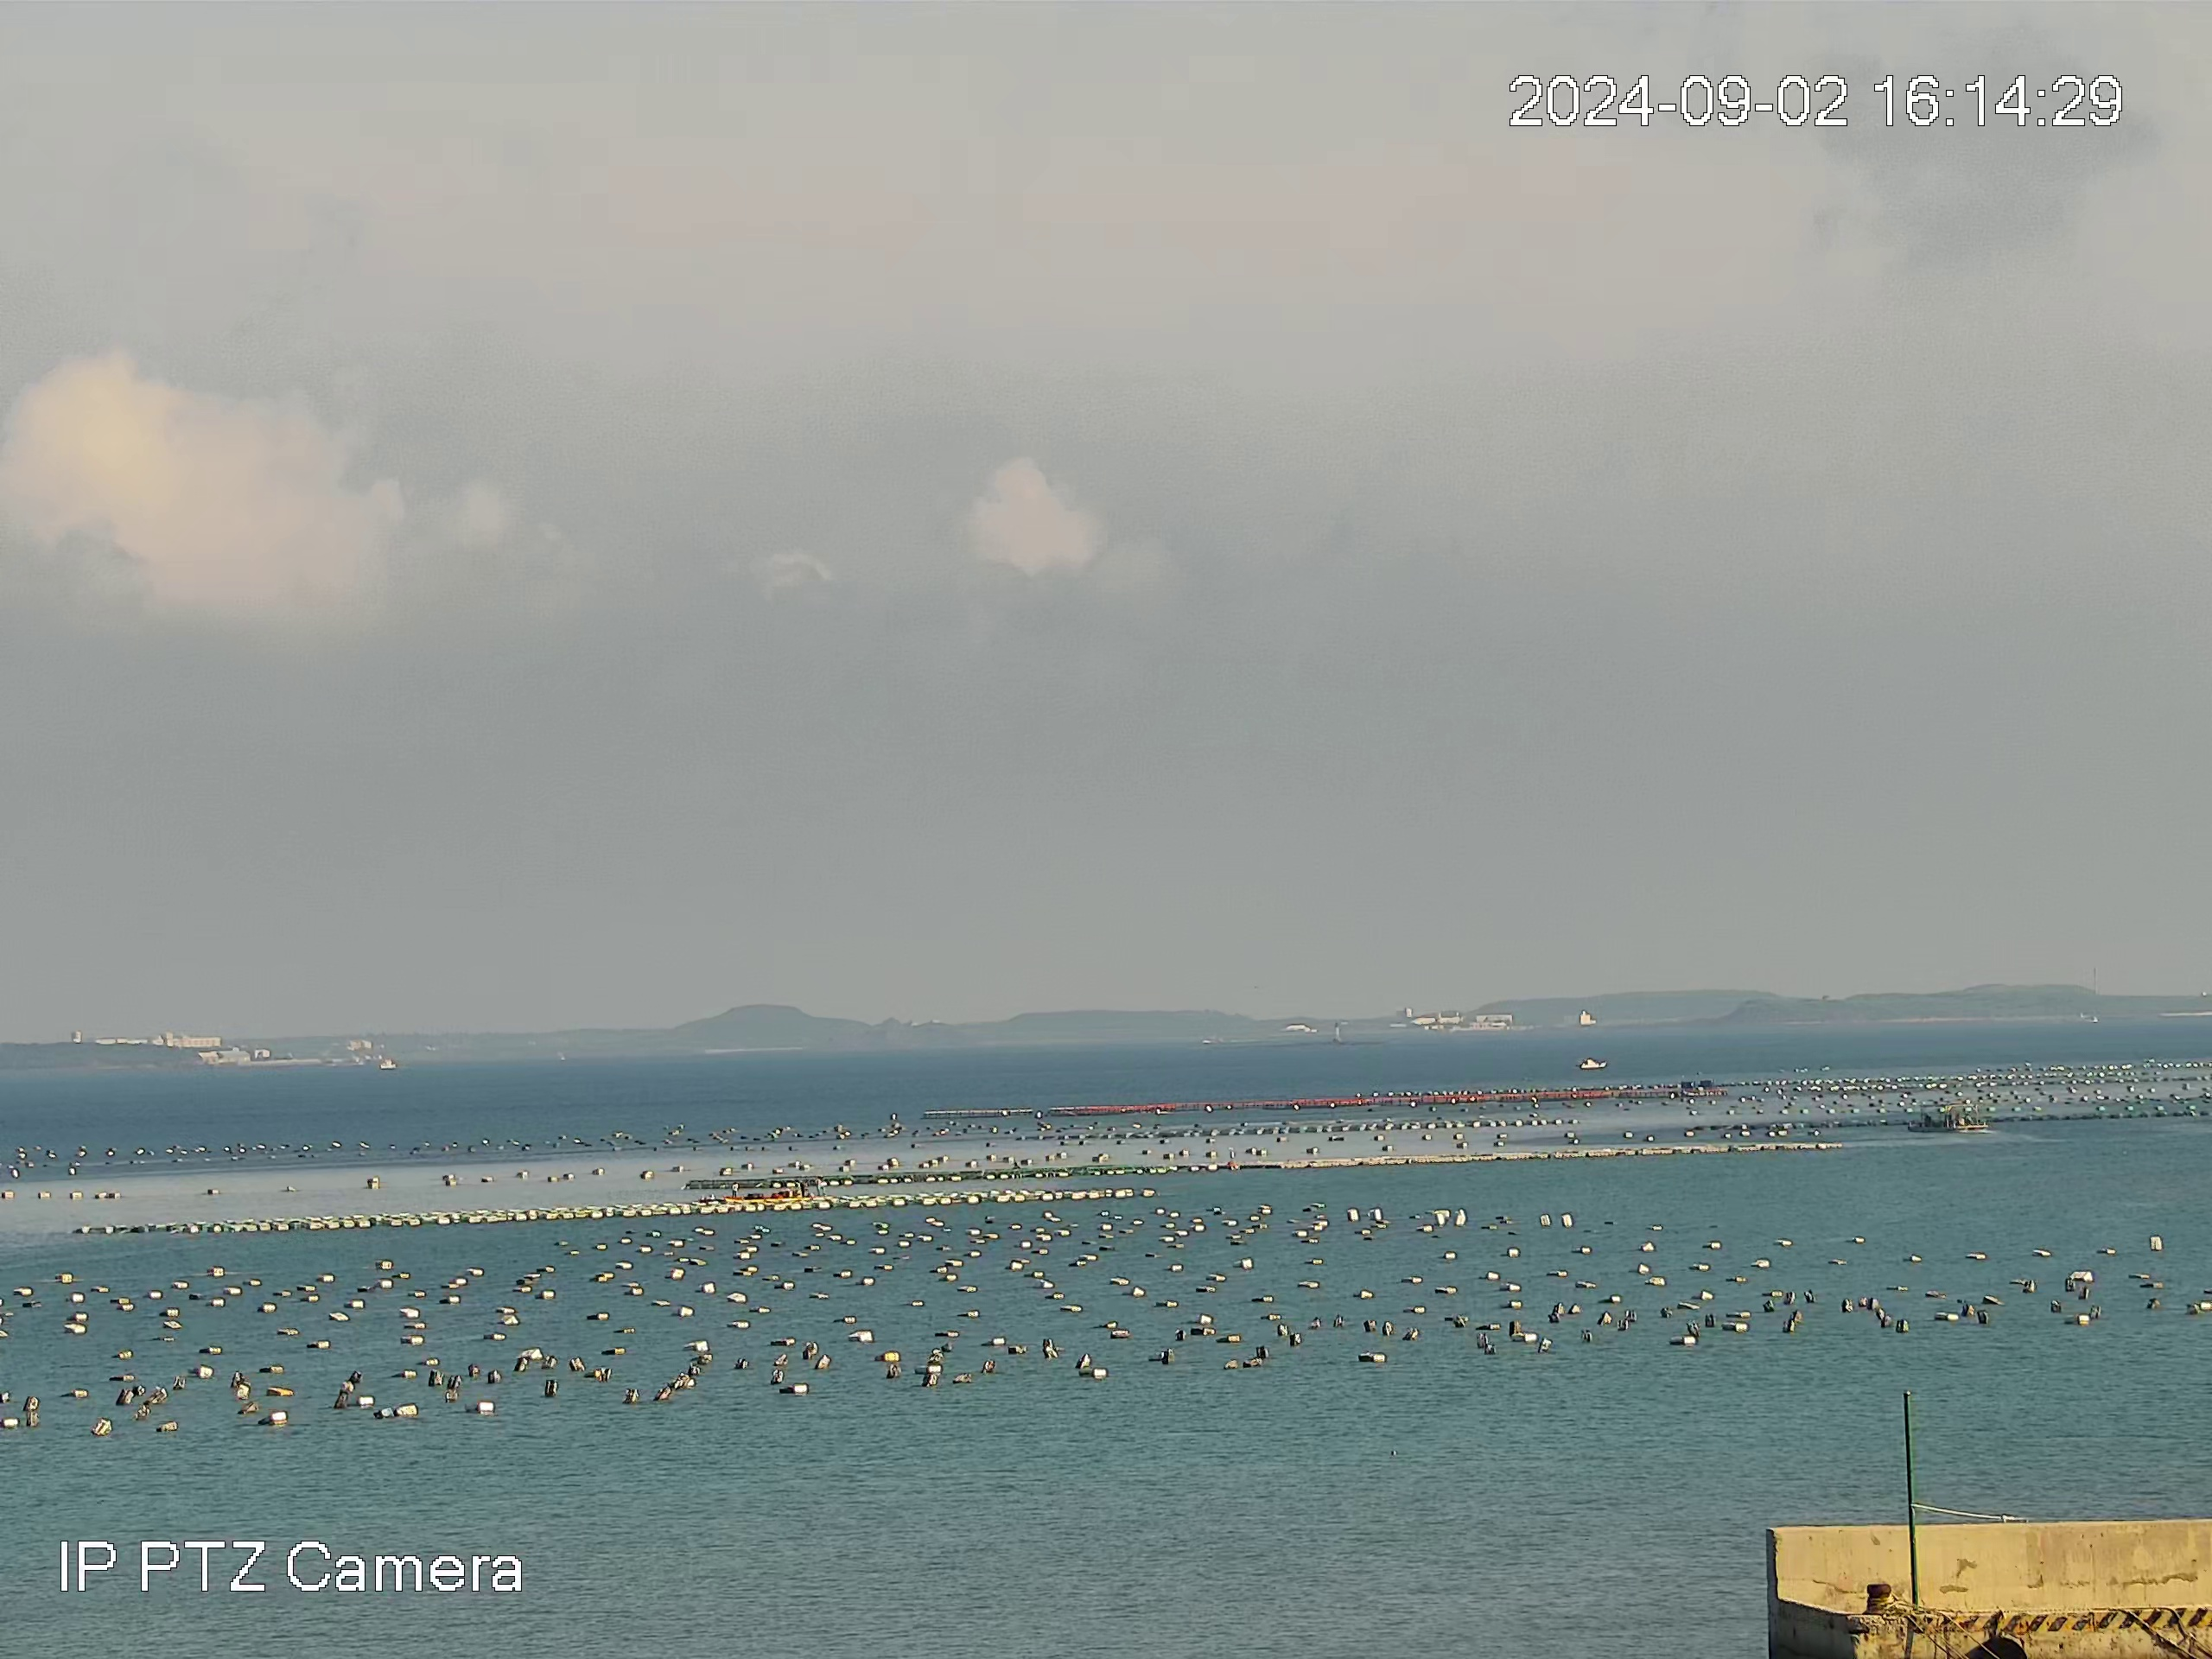boat: (1907, 1103, 1989, 1134), (721, 1180, 813, 1202), (1576, 1056, 1609, 1070)
